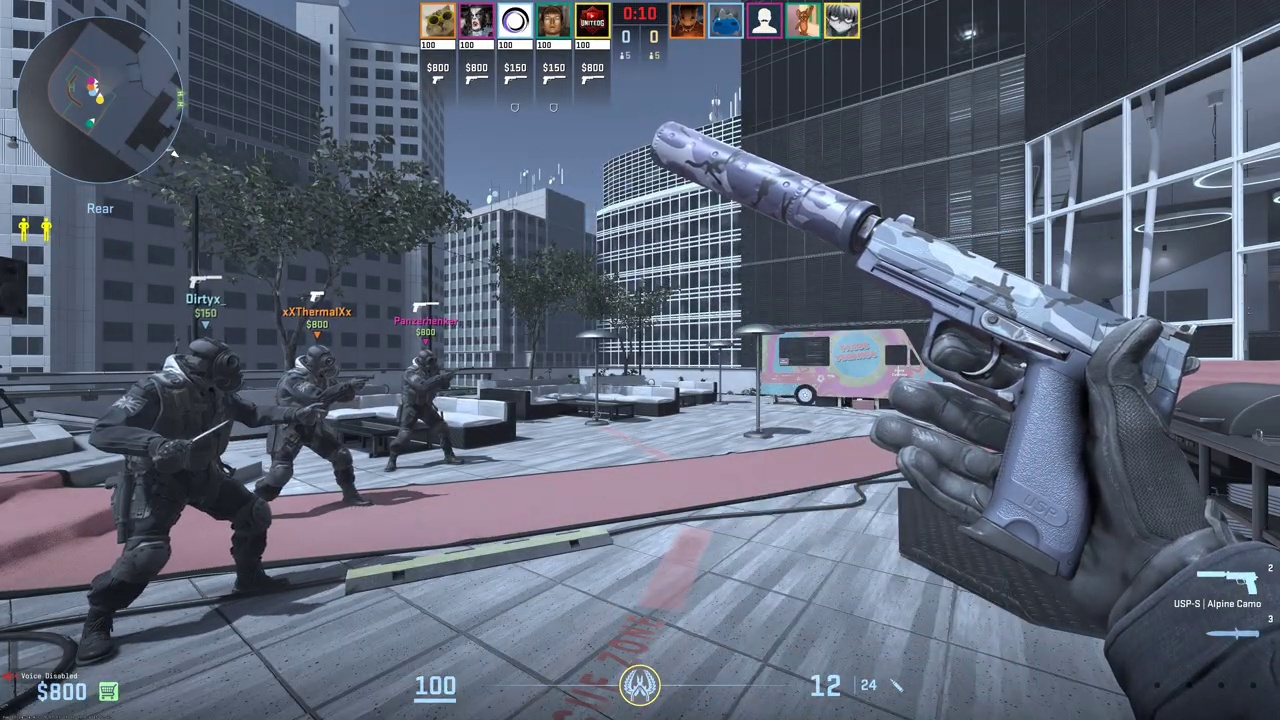CT: (84, 338, 272, 658), (266, 344, 363, 507), (388, 349, 462, 470)
